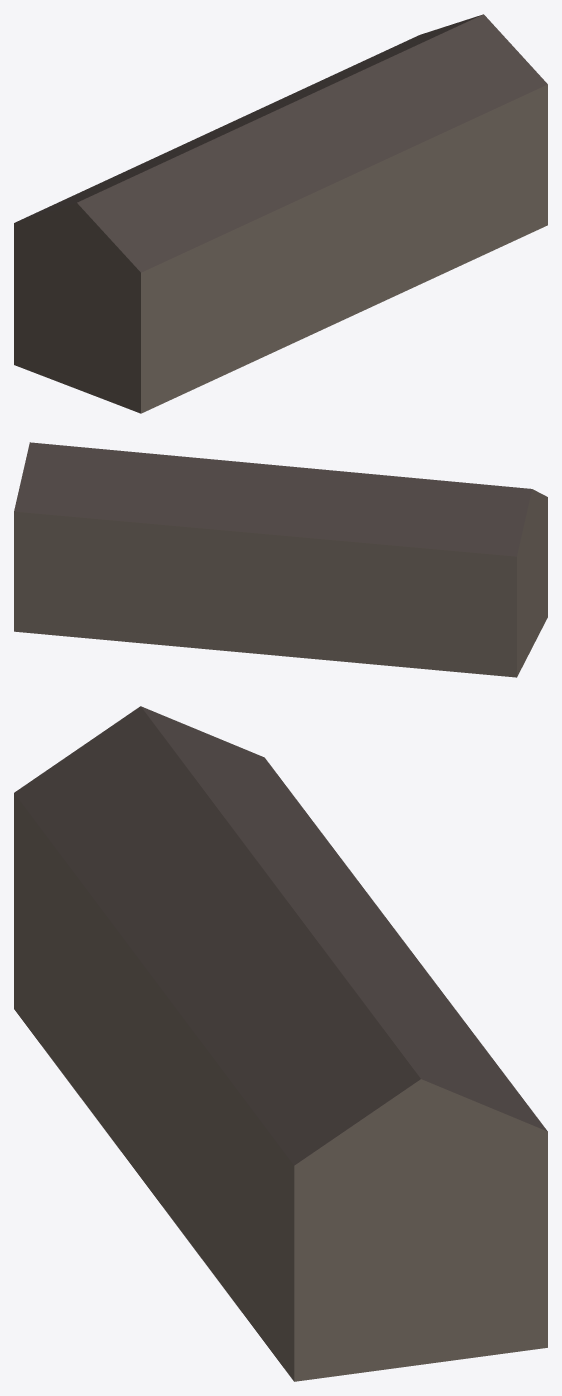
The picture shows the model from 3 angles, top to bottom: view 1: azimuth 30°, elevation 25°; view 2: azimuth 150°, elevation 25°; view 3: azimuth 270°, elevation 25°; orthographic projection. The views are drawn at different scales.
Visible parts, largest first — view 1: HP-w1198645045; view 2: HP-w1198645045; view 3: HP-w1198645045.
Part boxes in pixels (bbox=[...]): HP-w1198645045: bbox=[14, 14, 547, 413]; HP-w1198645045: bbox=[14, 442, 547, 677]; HP-w1198645045: bbox=[14, 706, 547, 1381].
Size of the model in its own units: 24.22 by 7.93 by 13.44.
